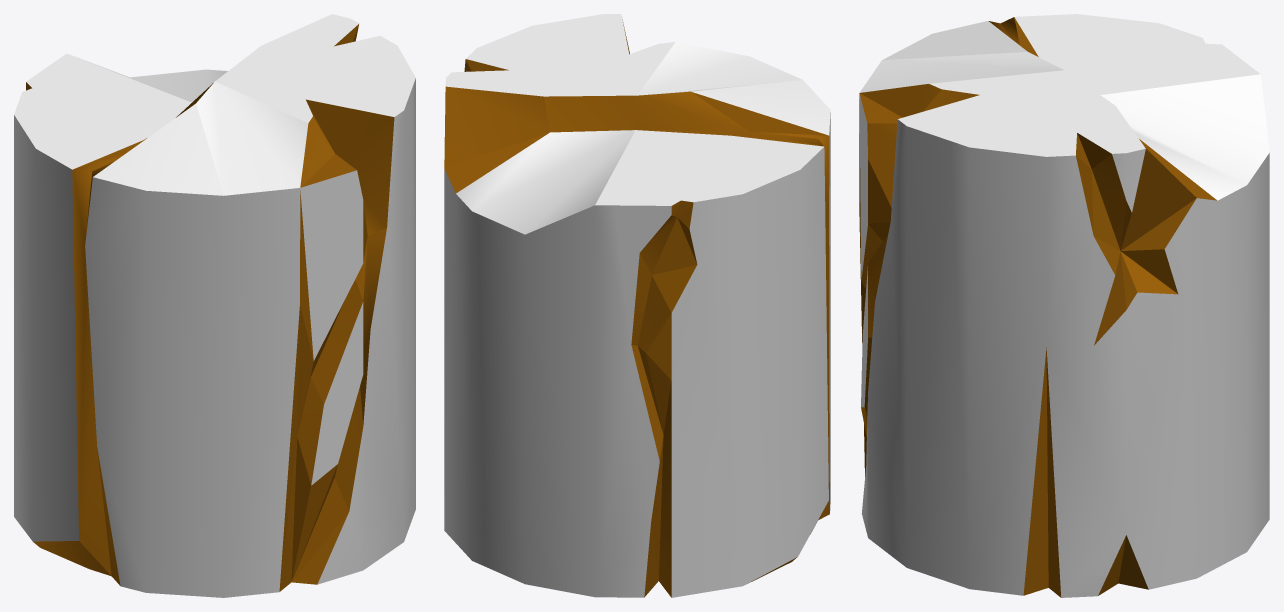
The model's file is stump3.glb.
3 renders of one model, left to right at view 1: azimuth 30°, elevation 25°; view 2: azimuth 150°, elevation 25°; view 3: azimuth 270°, elevation 25°, orthographic. The views are drawn at different scales.
Visible parts, largest first — view 1: 四方连续木头3最新; view 2: 四方连续木头3最新; view 3: 四方连续木头3最新.
Boxes of the visible parts, bbox=[...] form: 四方连续木头3最新: bbox=[14, 14, 415, 597]; 四方连续木头3最新: bbox=[444, 14, 830, 597]; 四方连续木头3最新: bbox=[859, 14, 1269, 597].
Size of the model in its own units: 1.14 by 1.35 by 1.14.
